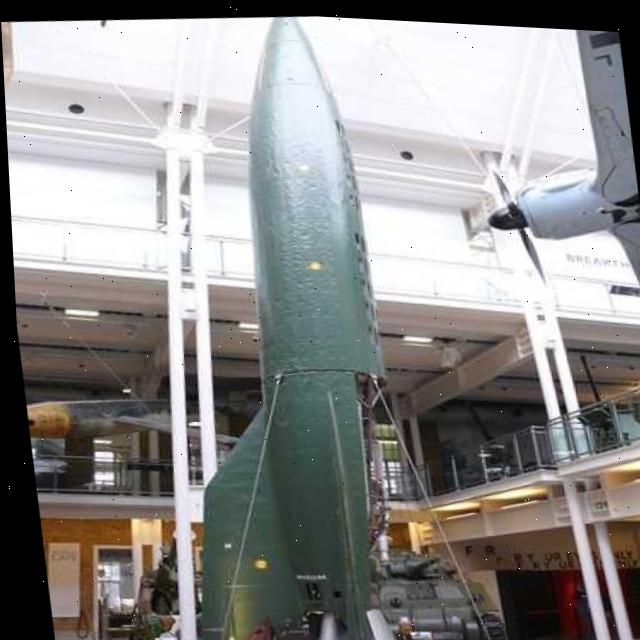missile: (130, 5, 428, 640)
